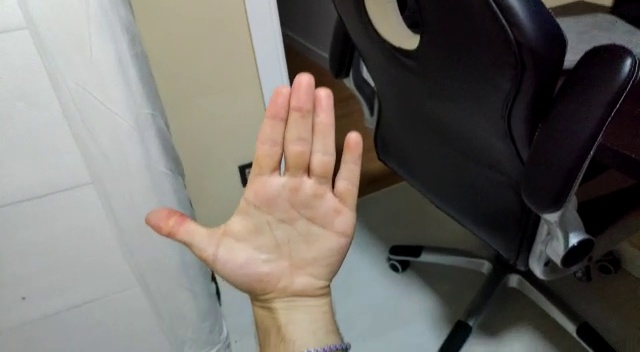Palm: (144, 68, 364, 324)
